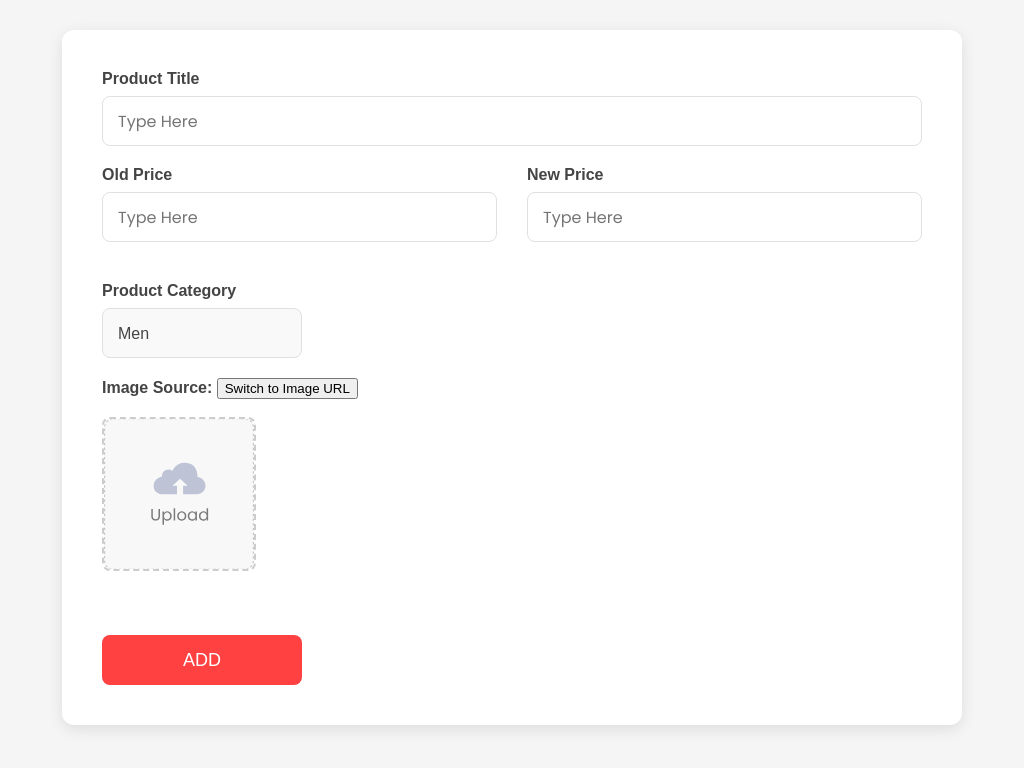
Test case: Addproduct Admin Logic › toggles between file upload and URL input
Click the button "Switch to Image URL" at (287, 388), box [217,378,358,399]
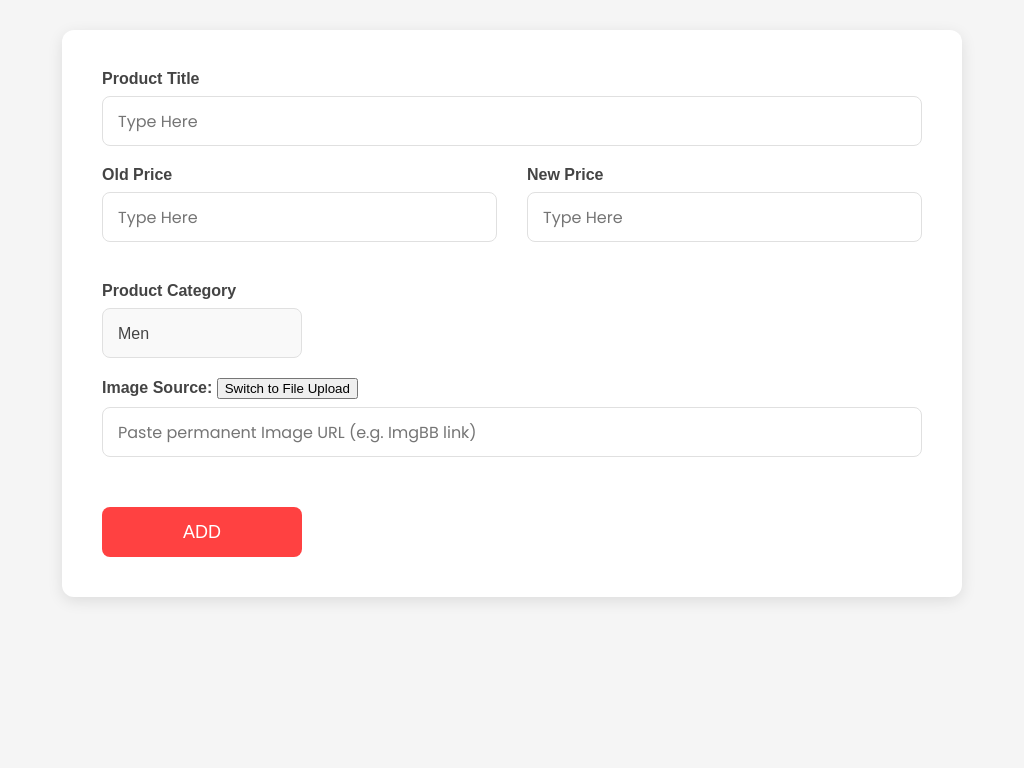
Expected: the field with placeholder "Paste permanent Image URL (e.g. ImgBB link)" is shown, [102,407,922,457]
